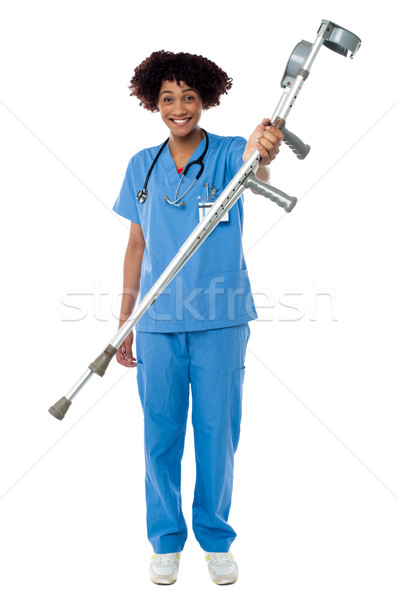crutches: (50, 18, 364, 587)
